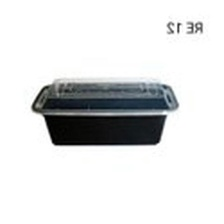plastic_box: (26, 68, 186, 154)
